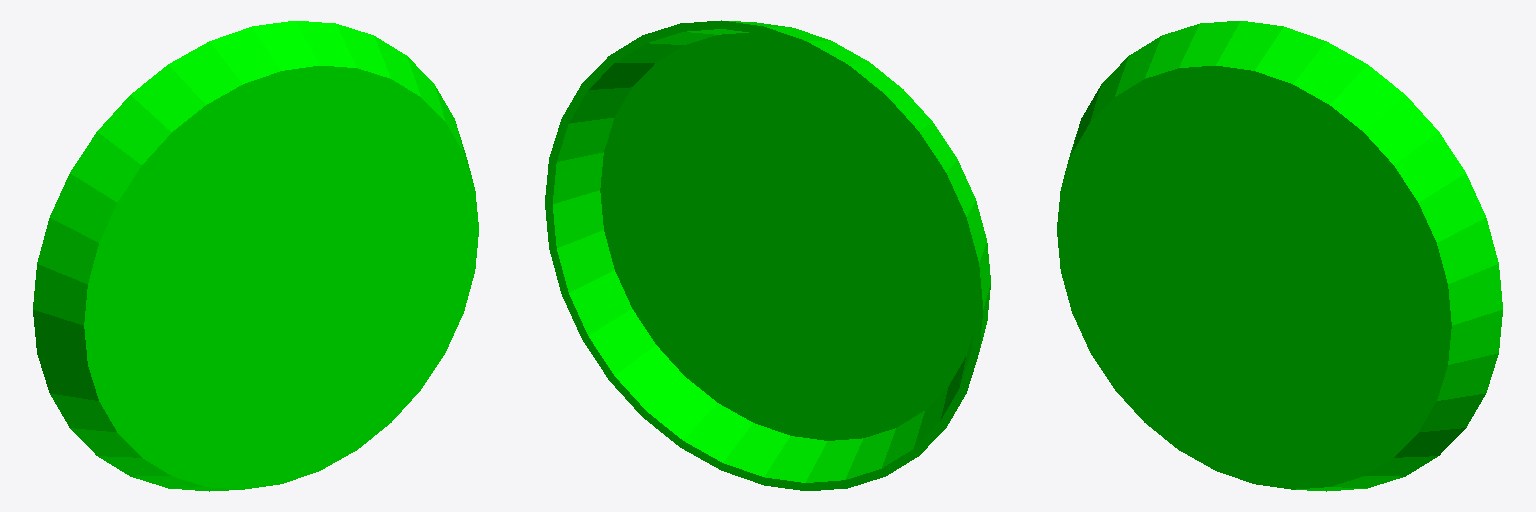
URDF robot description (ring):
<?xml version="0.0" ?>
<robot name="ring">
    <material name="green">
        <color rgba="0 1 0 1"/>
    </material>

    <link name="baseLink">
        <!-- from lego/lego.urdf -->
        <contact>
            <lateral_friction value="1.0"/>
            <rolling_friction value="0.0"/>
            <contact_cfm value="0.0"/>
            <contact_erp value="1.0"/>
        </contact>
        <inertial>
            <origin rpy="0 0 0" xyz="0 0 0"/>
            <mass value="5.01"/>
            <inertia ixx="1" ixy="0" ixz="0" iyy="1" iyz="0" izz="1"/>
        </inertial>
        <visual>
            <origin rpy="0 0 0" xyz="0 0 0"/>
            <geometry>
                <!--        radius: 10mm, depth: 14.5mm-->
                <mesh filename="meshes/pot.obj" scale="1 1 1"/>
                <!--        <box size="0.002 0.002 0.002"/>-->
            </geometry>
            <material name="green"/>
        </visual>
        <collision>
            <origin rpy="0 0 0" xyz="0 0 0"/>
            <geometry>
                <mesh filename="meshes/pot_vhacd.obj" scale="1 1 1"/>
                <!--        <box size="0.002 0.002 0.002"/>-->
            </geometry>
        </collision>
    </link>
</robot>

--- Render facts (derived) ---
3 views of the same robot in one strip: view 1: azimuth 30°, elevation 25°; view 2: azimuth 150°, elevation 25°; view 3: azimuth 330°, elevation 25° (orthographic).
Model ring with 1 links and 0 joints (none), rooted at baseLink, posed every joint at zero.
Links seen in each view (by area): view 1: baseLink; view 2: baseLink; view 3: baseLink.
Boxes of the visible links, <box> form: baseLink: <box>33,21,478,491</box>; baseLink: <box>545,20,990,490</box>; baseLink: <box>1057,21,1502,491</box>.
Size in the robot's own frame: 1.39 by 0.1627 by 1.39 metres.
Meshes: 1 distinct files referenced, 1 mesh visuals loaded (1 OBJ).